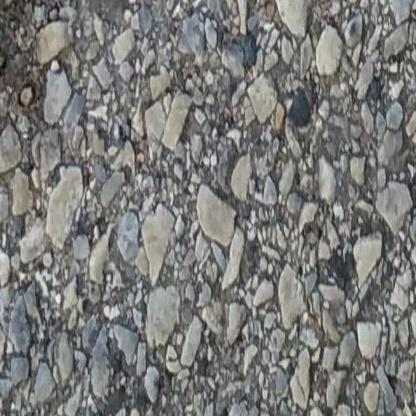Cracks: (0, 0, 66, 125)
